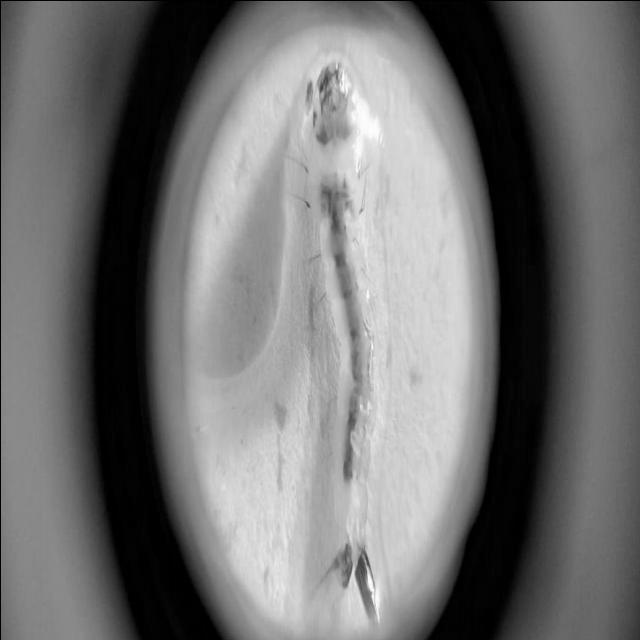larvas: (303, 65, 380, 627)
